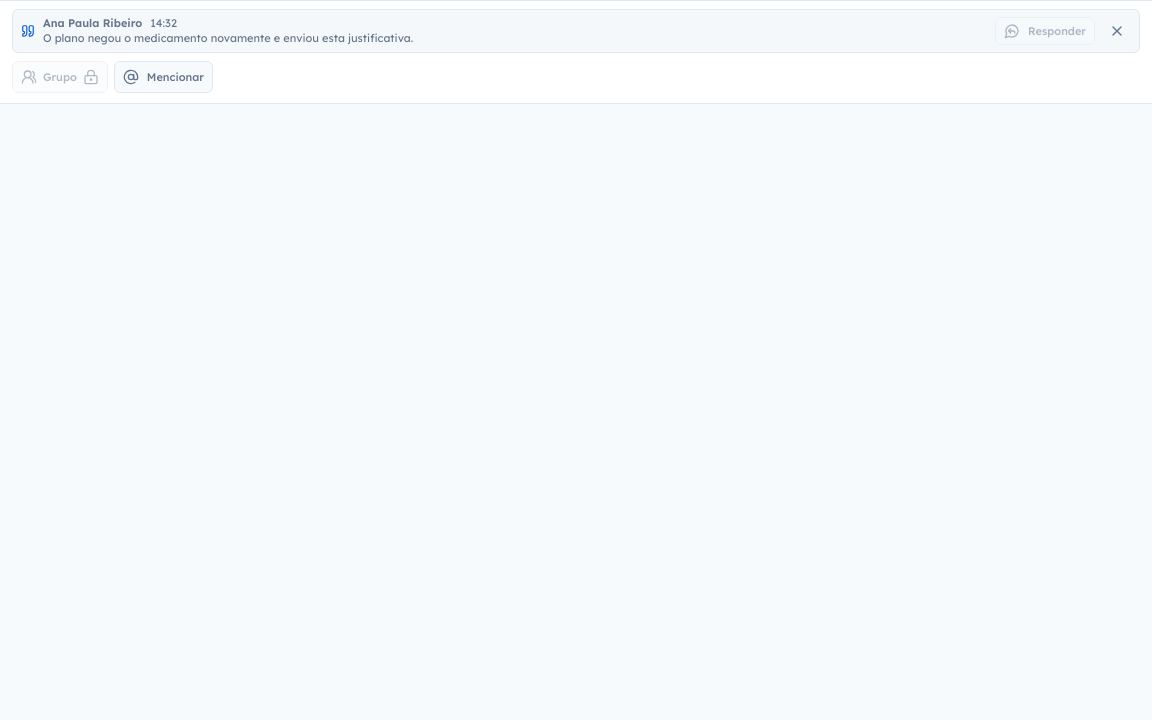
Test: ConversationCollaborationBar › gates replies, participant details, and each mention target category
Expected: the button "Responder" is disabled, x1=995 y1=17 x2=1095 y2=45
Expected: the button with aria-label "Conversa em grupo; participantes restritos" is disabled, x1=12 y1=61 x2=108 y2=93
Click the button with aria-label "Mencionar usuário ou equipe" at (163, 77), box x1=114 y1=61 x2=213 y2=93
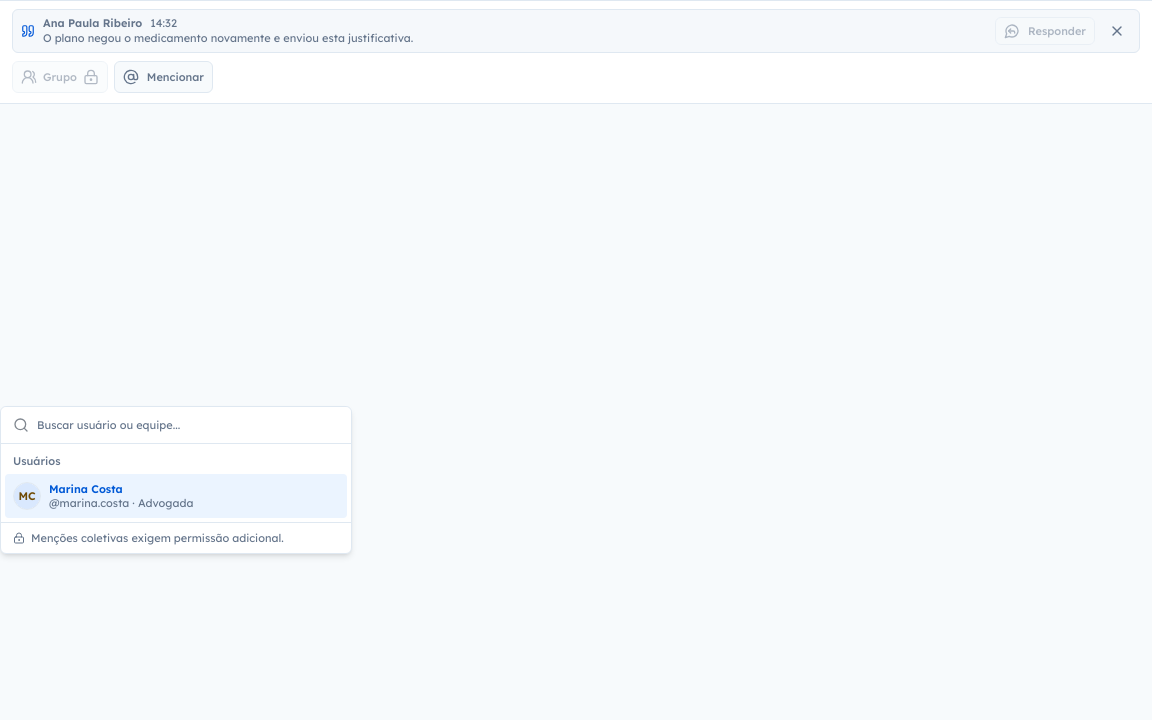
Now the text "Marina Costa" is shown, box x1=49 y1=482 x2=123 y2=496
Now the text "Menções coletivas exigem permissão adicional." is shown, box x1=31 y1=531 x2=284 y2=545
